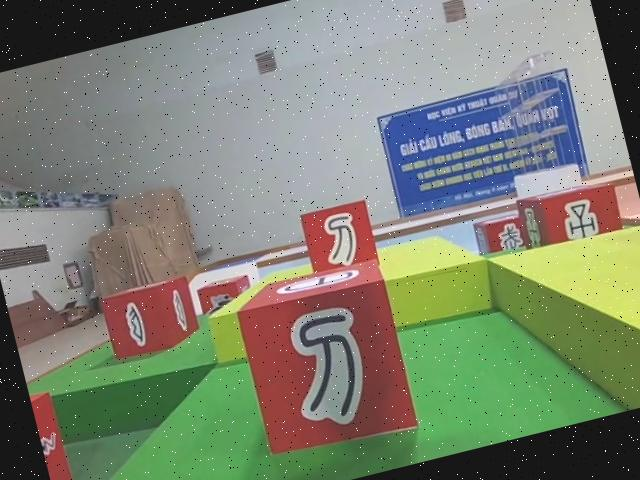R1: (27, 385, 83, 480), (194, 270, 256, 322)
R2 Fake: (227, 253, 425, 466), (296, 196, 384, 285), (472, 208, 539, 263)
R2 Real: (512, 174, 631, 264), (96, 272, 206, 366)
